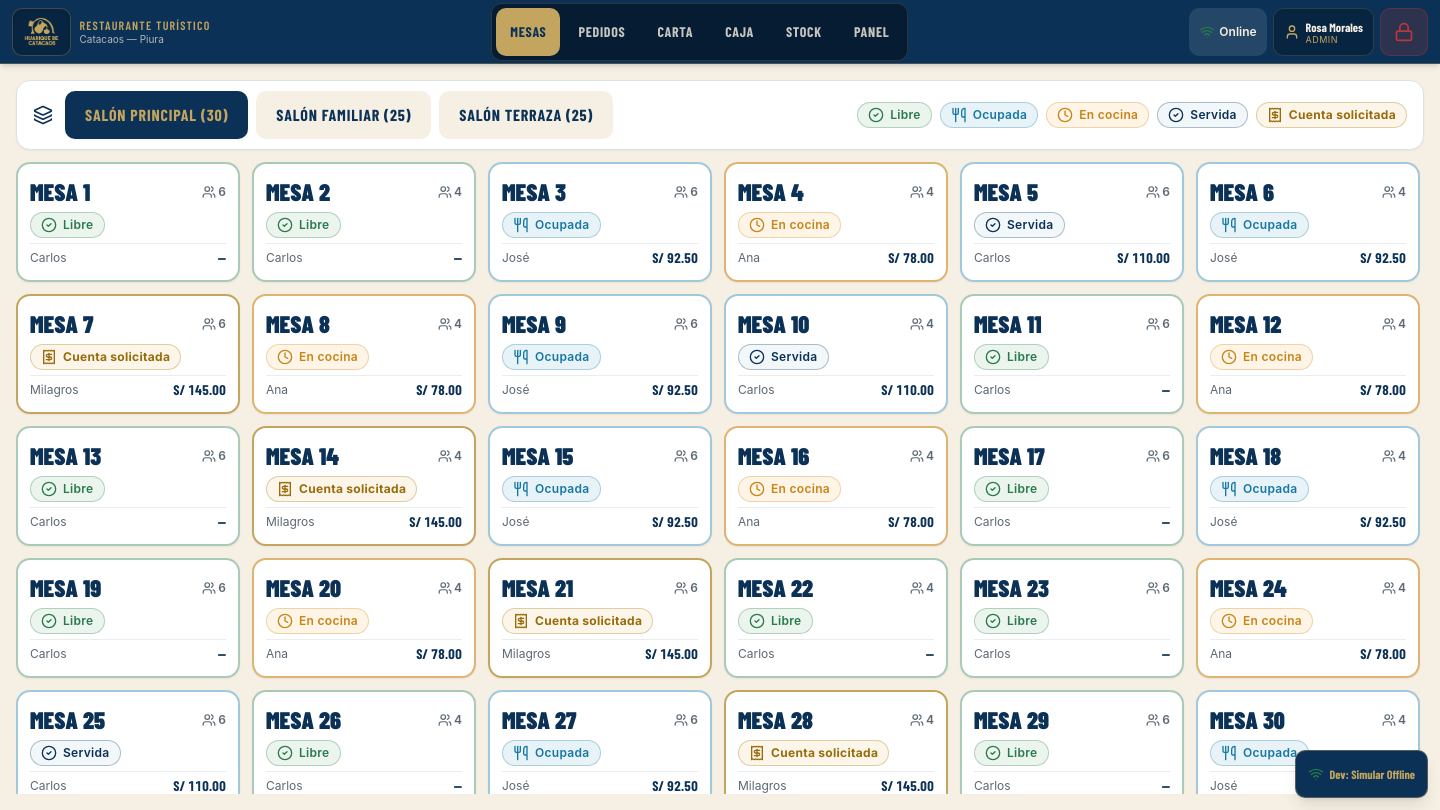
Test: Aplicación Principal y Criterios de Accesibilidad — El Huarique de Catacaos › permite alternar entre los tres salones (Principal, Familiar, Terraza)
Click the tab "Salón Familiar (25)" at (344, 115), box [256, 91, 431, 139]
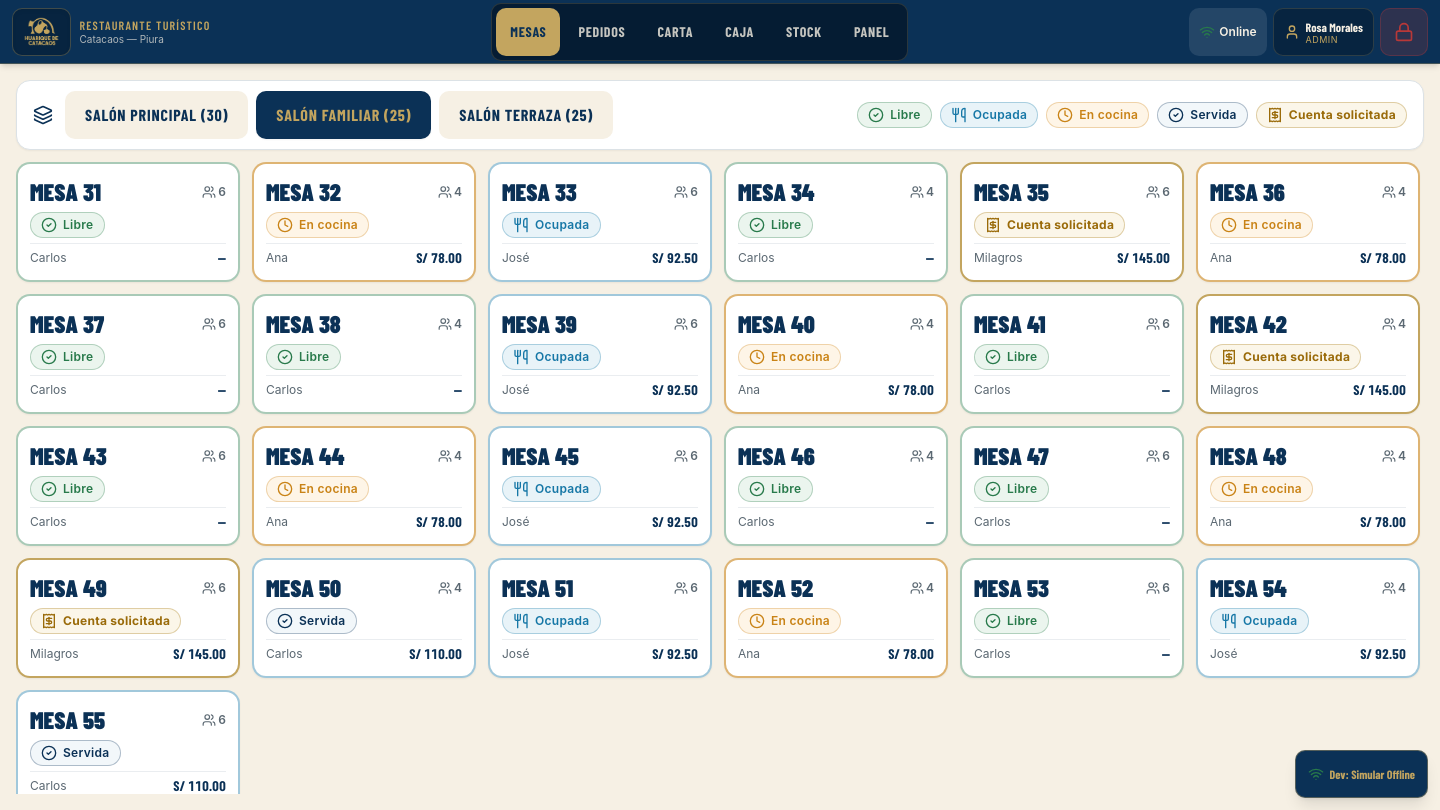
Expected: the button with aria-label "Mesa 31," is shown, [16, 162, 240, 282]
